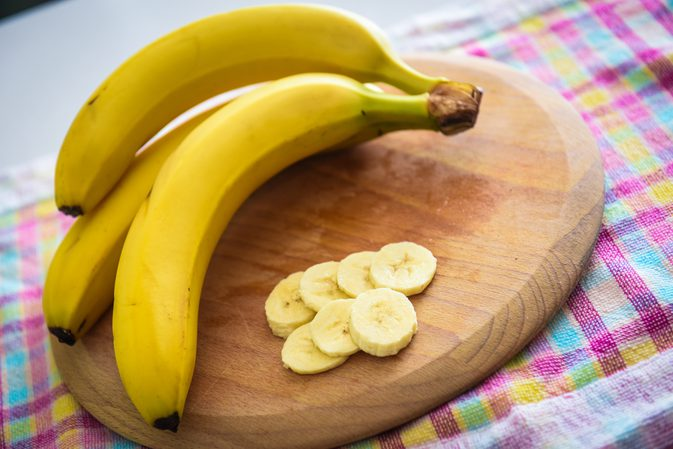banana: (21, 1, 449, 192), (92, 105, 260, 439), (171, 71, 413, 202), (17, 220, 111, 349)
